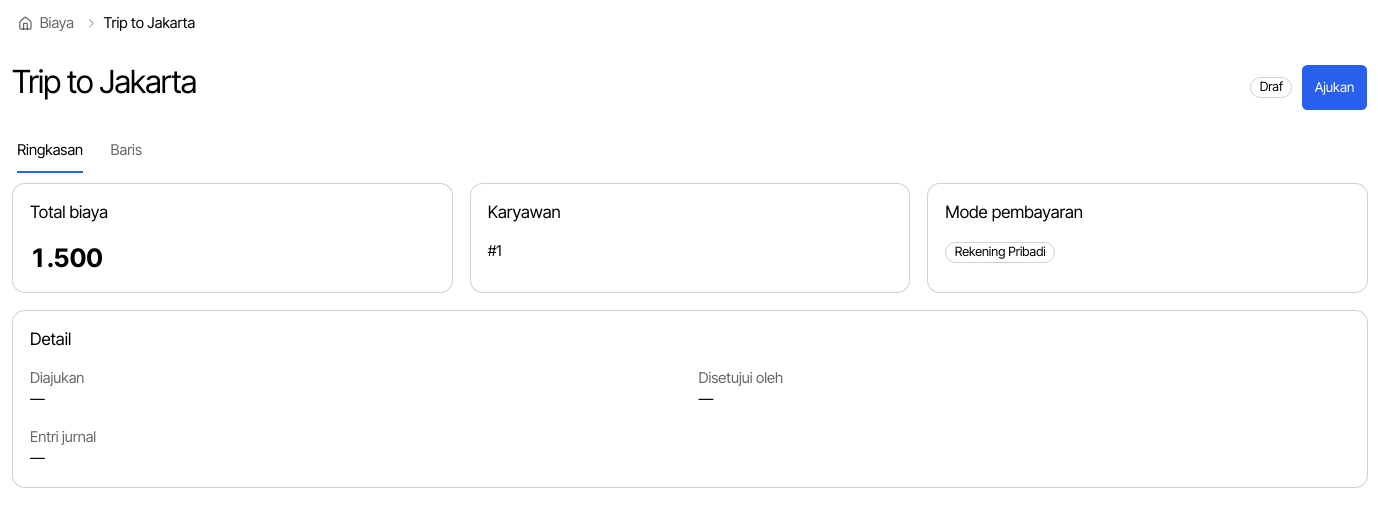
Test: ExpenseDetail branches › renders the no-lines state
This screenshot has width=1378, height=505.
Click the tab "Baris" at (126, 151), box [110,128,143,174]
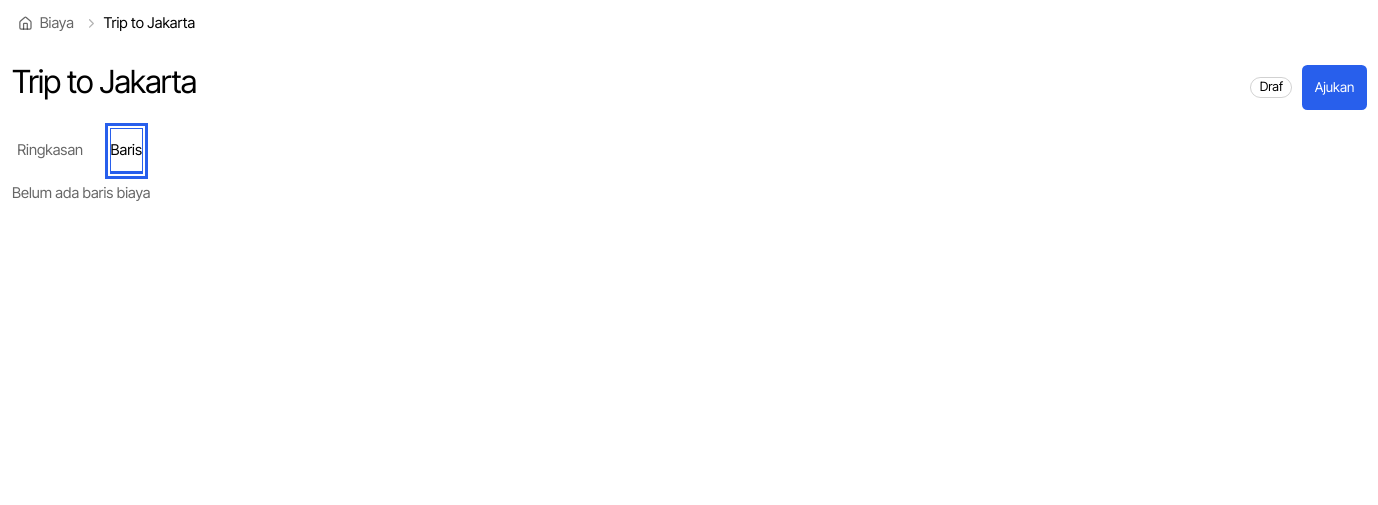
Result: the text "Belum ada baris biaya" is shown at [12,184,150,202]
